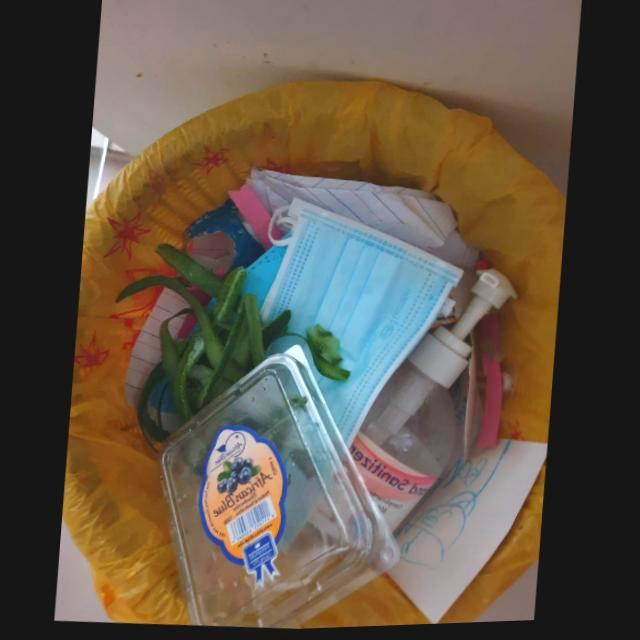paper: (387, 443, 548, 627), (247, 171, 479, 278), (125, 288, 191, 411)
plastic_bottle: (349, 272, 518, 534)
plastic_container: (159, 337, 401, 631)
